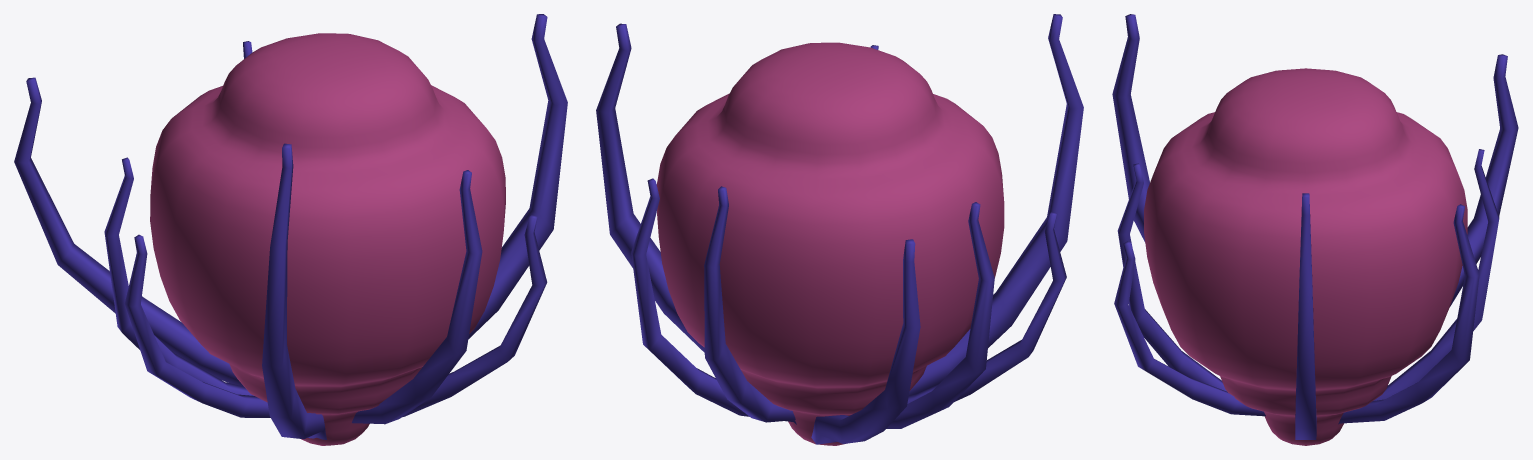
The model's file is Resource_Bush.fbx.
The picture shows the model from 3 angles, left to right: view 1: azimuth 30°, elevation 25°; view 2: azimuth 150°, elevation 25°; view 3: azimuth 270°, elevation 25°; orthographic projection. The views are drawn at different scales.
Visible parts, largest first — view 1: Resource_Bush; view 2: Resource_Bush; view 3: Resource_Bush.
Boxes of the visible parts, <box> form: Resource_Bush: <box>14,14,567,445</box>; Resource_Bush: <box>596,14,1083,445</box>; Resource_Bush: <box>1112,14,1518,445</box>.
Bounding box in the file's own units: 0.51 × 0.4247 × 0.4287.
